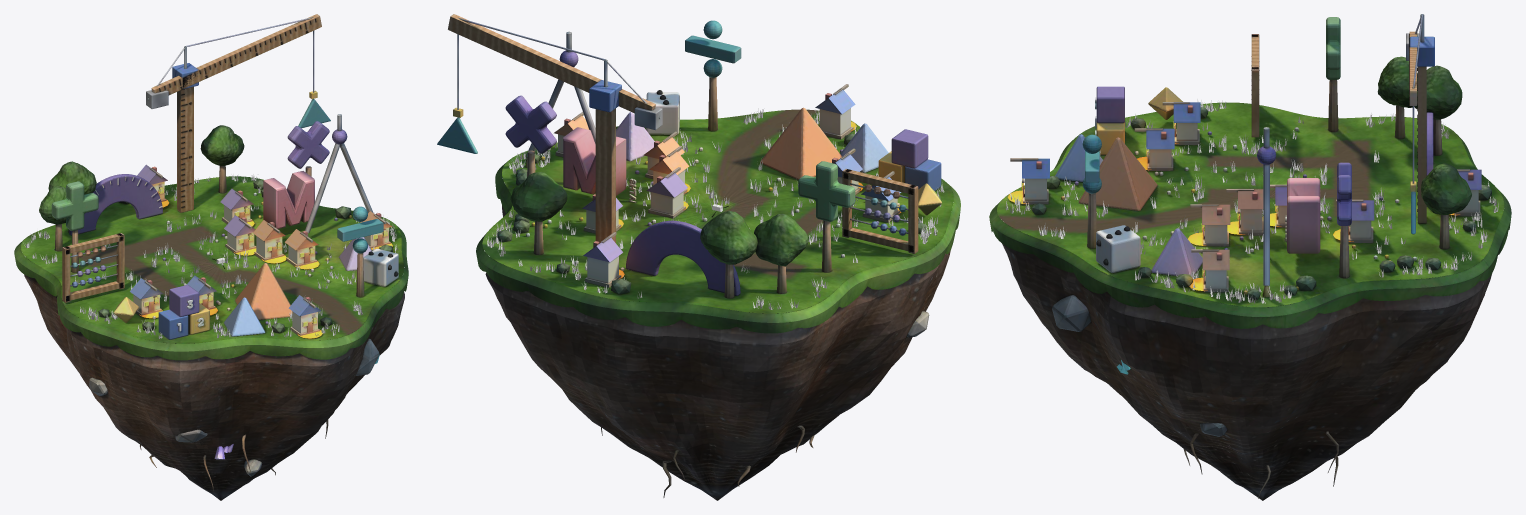
Rendered from island-maths-3d.glb.
3 renders of one model, left to right at view 1: azimuth 30°, elevation 25°; view 2: azimuth 150°, elevation 25°; view 3: azimuth 270°, elevation 25°, orthographic. The views are drawn at different scales.
Parts seen in each view (by area): view 1: ile, brins; view 2: ile, brins; view 3: ile, brins.
Boxes of the visible parts, x1,y1,x2,y2 form: ile: (14,14,408,500); brins: (23,174,398,338); ile: (437,14,960,500); brins: (486,108,944,309); ile: (989,14,1511,500); brins: (1005,99,1498,303).
Bounding box in the file's own units: 6.71 × 7.54 × 7.04.
3 materials, 1 textured.
